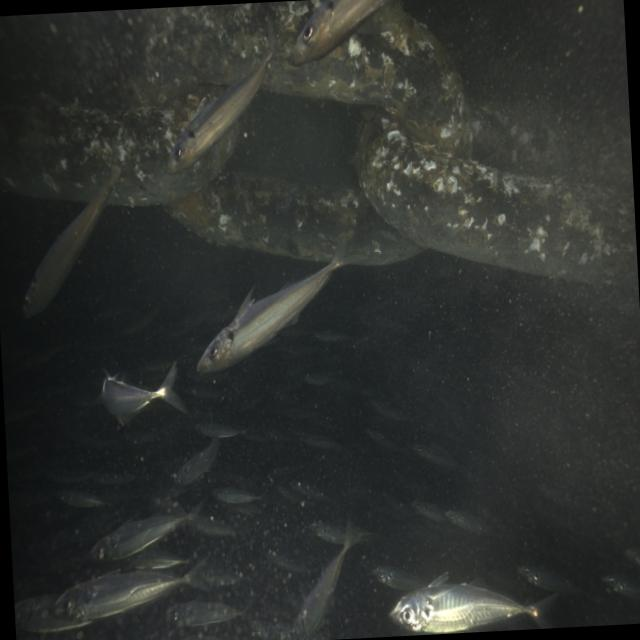ChainLink: (356, 112, 638, 281), (264, 0, 471, 154), (0, 85, 238, 203), (169, 177, 417, 265), (128, 6, 266, 105)
